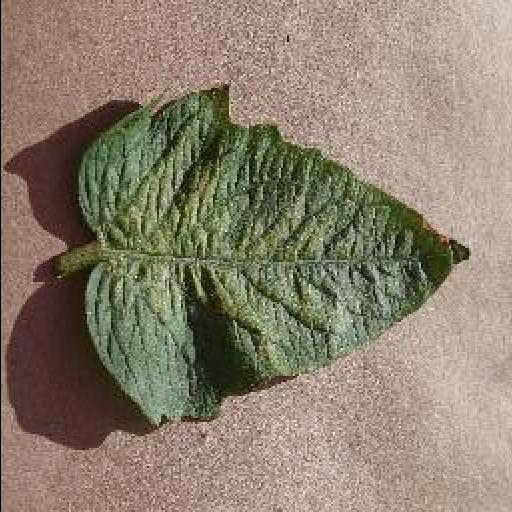disease_tomato: (78, 87, 474, 429)
